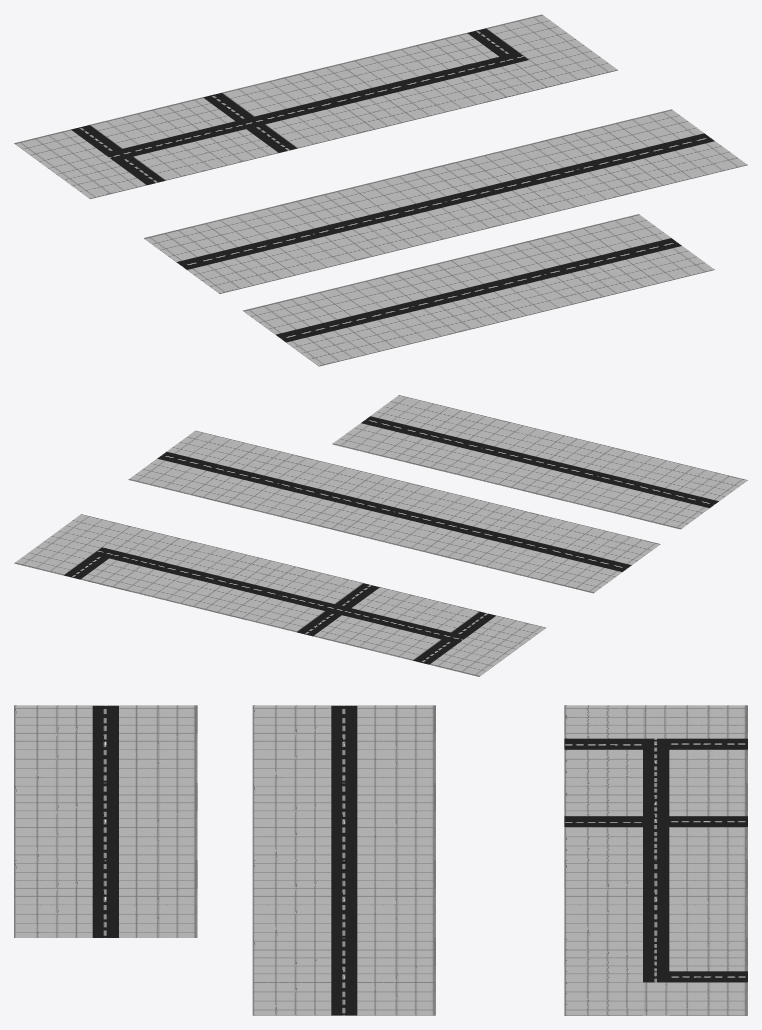
3 views of the same model, one above another, from view 1: azimuth 30°, elevation 25°; view 2: azimuth 150°, elevation 25°; view 3: azimuth 270°, elevation 25° (orthographic). The views are drawn at different scales.
Parts seen in each view (by area): view 1: StraightRoad_tEXTURE.001, StraightRoad_tEXTURE.002, AllSideRoad.001, StraightRoad_tEXTURE, RoadTakeTurn, AllSideRoad; view 2: StraightRoad_tEXTURE.001, StraightRoad_tEXTURE.002, AllSideRoad.001, StraightRoad_tEXTURE, RoadTakeTurn, AllSideRoad; view 3: StraightRoad_tEXTURE.001, StraightRoad_tEXTURE.002, AllSideRoad, StraightRoad_tEXTURE, RoadTakeTurn, AllSideRoad.001.
Part boxes in pixels (x1,y1,x2,y2): StraightRoad_tEXTURE.001: [144, 109, 747, 293]; StraightRoad_tEXTURE.002: [243, 214, 714, 366]; AllSideRoad.001: [14, 111, 221, 198]; StraightRoad_tEXTURE: [278, 46, 485, 134]; RoadTakeTurn: [410, 14, 617, 102]; AllSideRoad: [146, 79, 353, 166]; StraightRoad_tEXTURE.001: [128, 430, 660, 593]; StraightRoad_tEXTURE.002: [332, 395, 747, 529]; AllSideRoad.001: [363, 599, 545, 676]; StraightRoad_tEXTURE: [130, 542, 313, 619]; RoadTakeTurn: [14, 514, 196, 591]; AllSideRoad: [247, 571, 429, 648]; StraightRoad_tEXTURE.001: [252, 705, 435, 1015]; StraightRoad_tEXTURE.002: [14, 705, 197, 937]; AllSideRoad: [564, 783, 747, 860]; StraightRoad_tEXTURE: [564, 860, 747, 937]; RoadTakeTurn: [564, 938, 747, 1015]; AllSideRoad.001: [564, 705, 747, 782].
Size of the model in its own units: 16000 by 5 by 16000.
